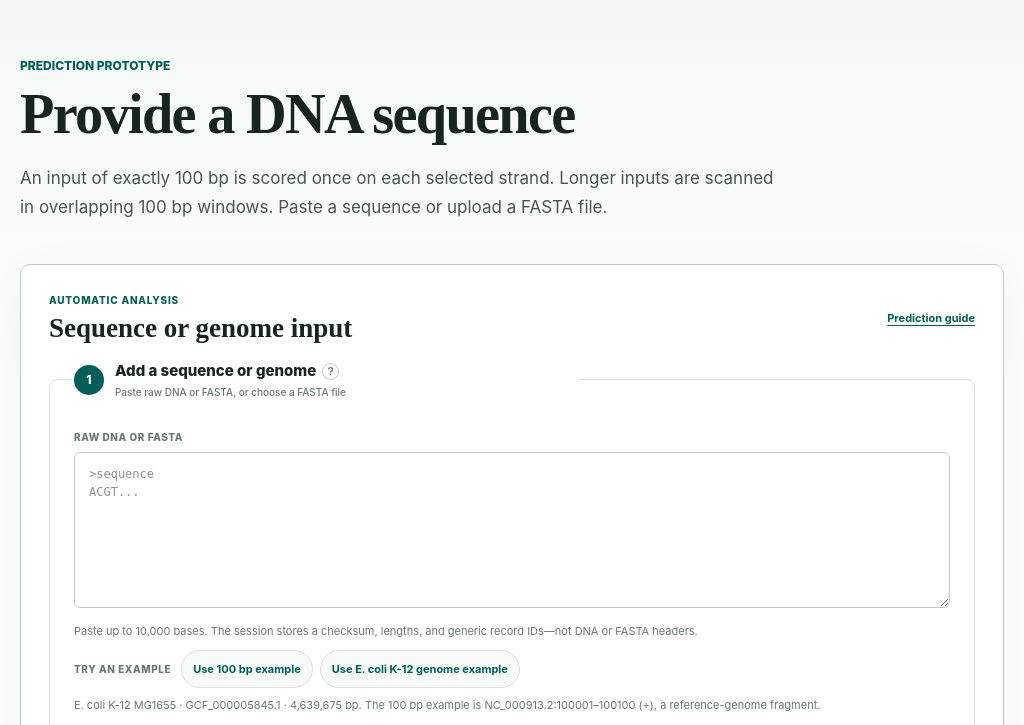
prototype prediction workbench › pastes the E. coli reference into the sequence editor for the genome example
The width and height of the screenshot is (1024, 725).
Click the button "Use E. coli K-12 genome example" at coordinates (420, 669), box [320, 650, 520, 688]
(page scrolled)
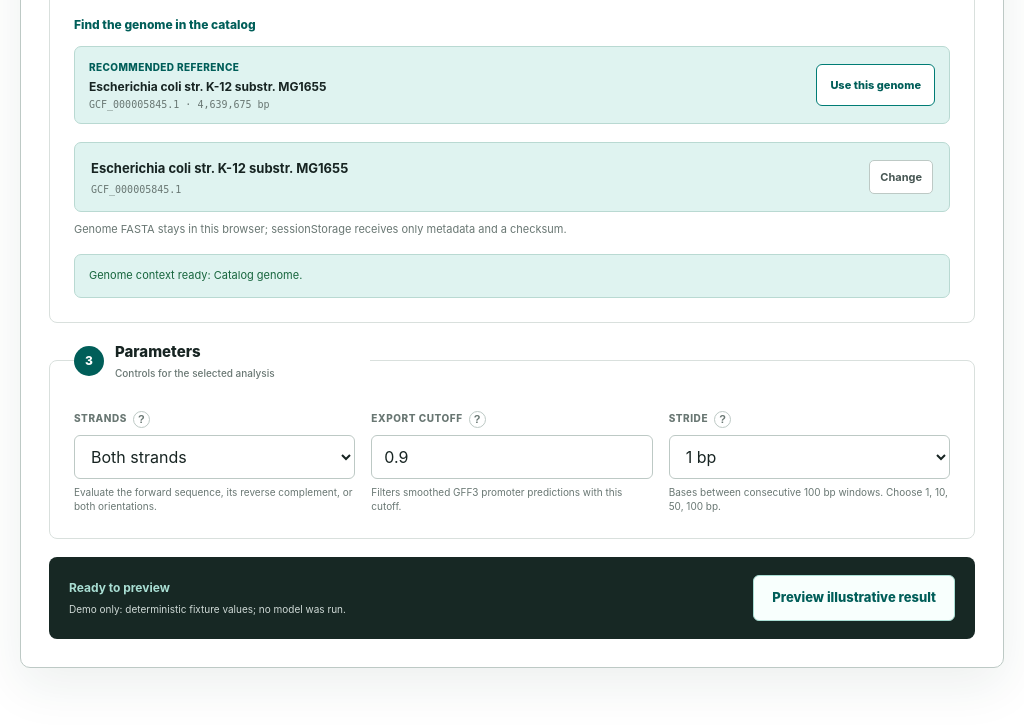
Expected: the text "Escherichia coli str. K-12 substr. MG1655" below "Recommended reference" is shown, [89, 79, 326, 94]
Expected: the dropdown named "Stride" shows "1 bp", [669, 435, 950, 479]
Expected: the text "Bases between consecutive 100 bp windows. Choose 1, 10, 50, 100 bp." is shown, [669, 485, 950, 514]
